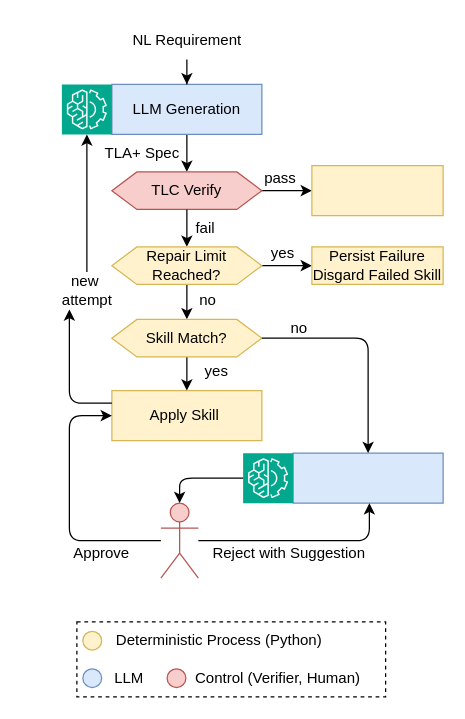
Image size: 465x719. Some labels were removed from this diagram. Here are the shapes that lost their labels. From the top down, the centre of each, then its label:
At (377,190): "Persist Result + new Skill (if any)".
At (367,477): "LLM proposes new skill".
At (179,540): "Knowledge Engineer".
